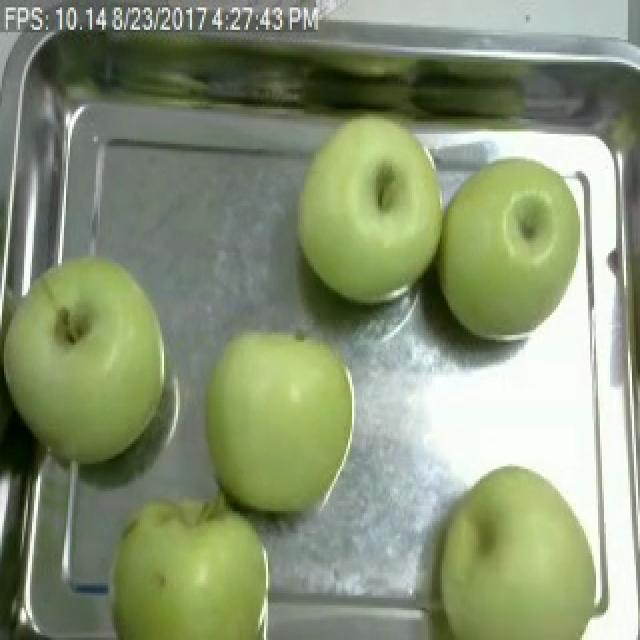50-_ripeness: (4, 264, 177, 484), (432, 459, 608, 640), (211, 319, 361, 521), (300, 112, 440, 293), (437, 156, 573, 341)
